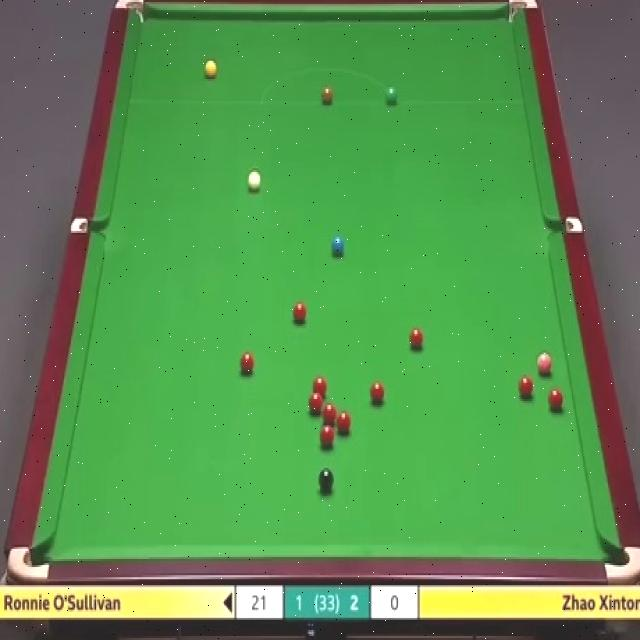black-ball: (317, 468, 334, 489)
blue-ball: (332, 233, 344, 257)
brown-ball: (320, 86, 335, 104)
green-ball: (384, 86, 398, 106)
pink-ball: (536, 351, 553, 380)
red-ball: (370, 379, 387, 407), (336, 410, 352, 434), (547, 387, 562, 412), (517, 374, 533, 397), (239, 352, 254, 376), (309, 392, 323, 417), (292, 303, 308, 324), (319, 425, 334, 447), (323, 406, 338, 426), (410, 327, 423, 350), (313, 377, 326, 398)
white-ball: (247, 168, 262, 194)
yellow-ball: (204, 58, 218, 80)
